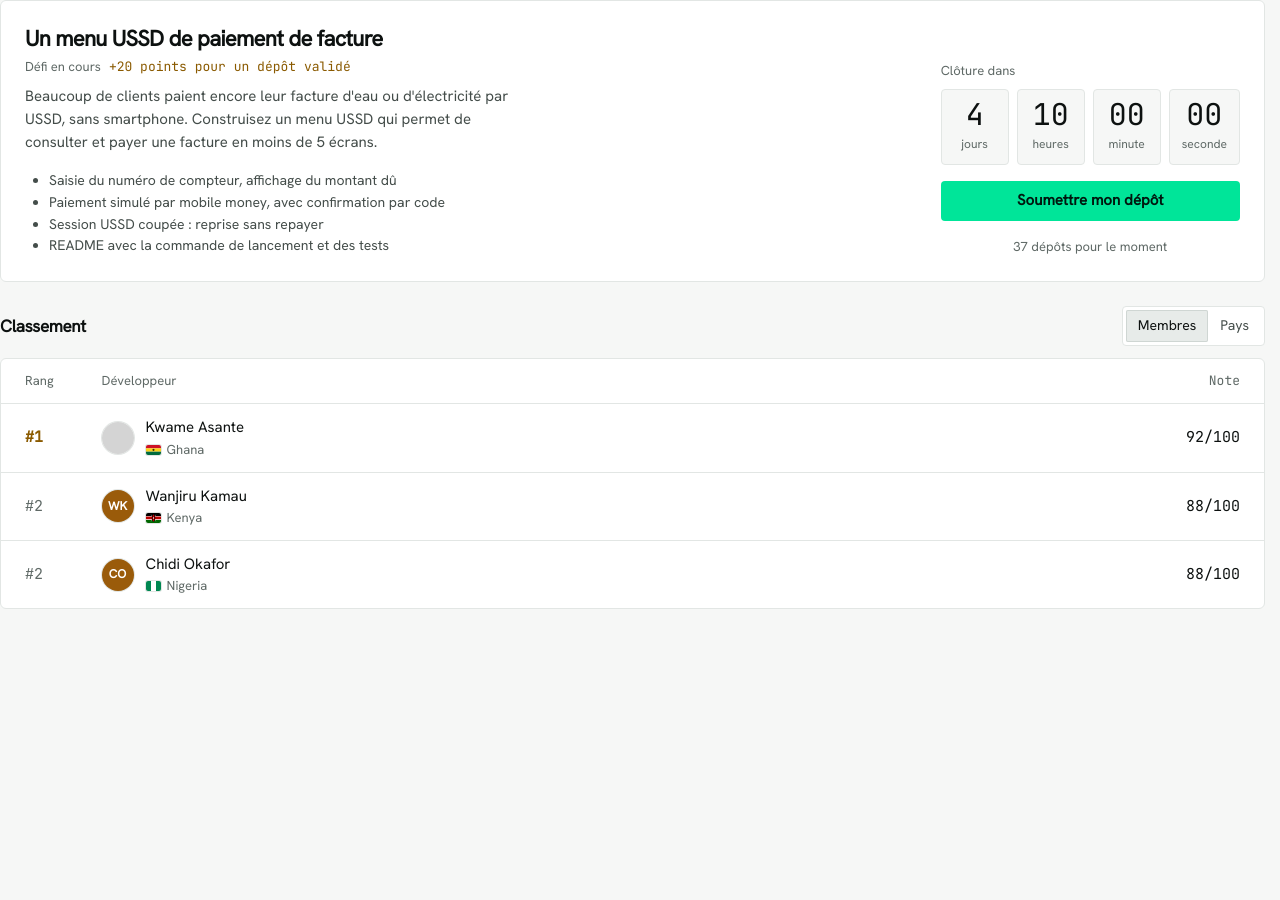
it: ChallengesPage › affiche le défi, le classement et enregistre un dépôt
Expected: the heading "Un menu USSD de paiement de facture" is shown, left=25, top=24, right=383, bottom=53
Expected: the link "Kwame Asante" is shown, left=146, top=417, right=244, bottom=437
Click the button "Soumettre mon dépôt" at (1090, 201), box left=941, top=181, right=1240, bottom=221
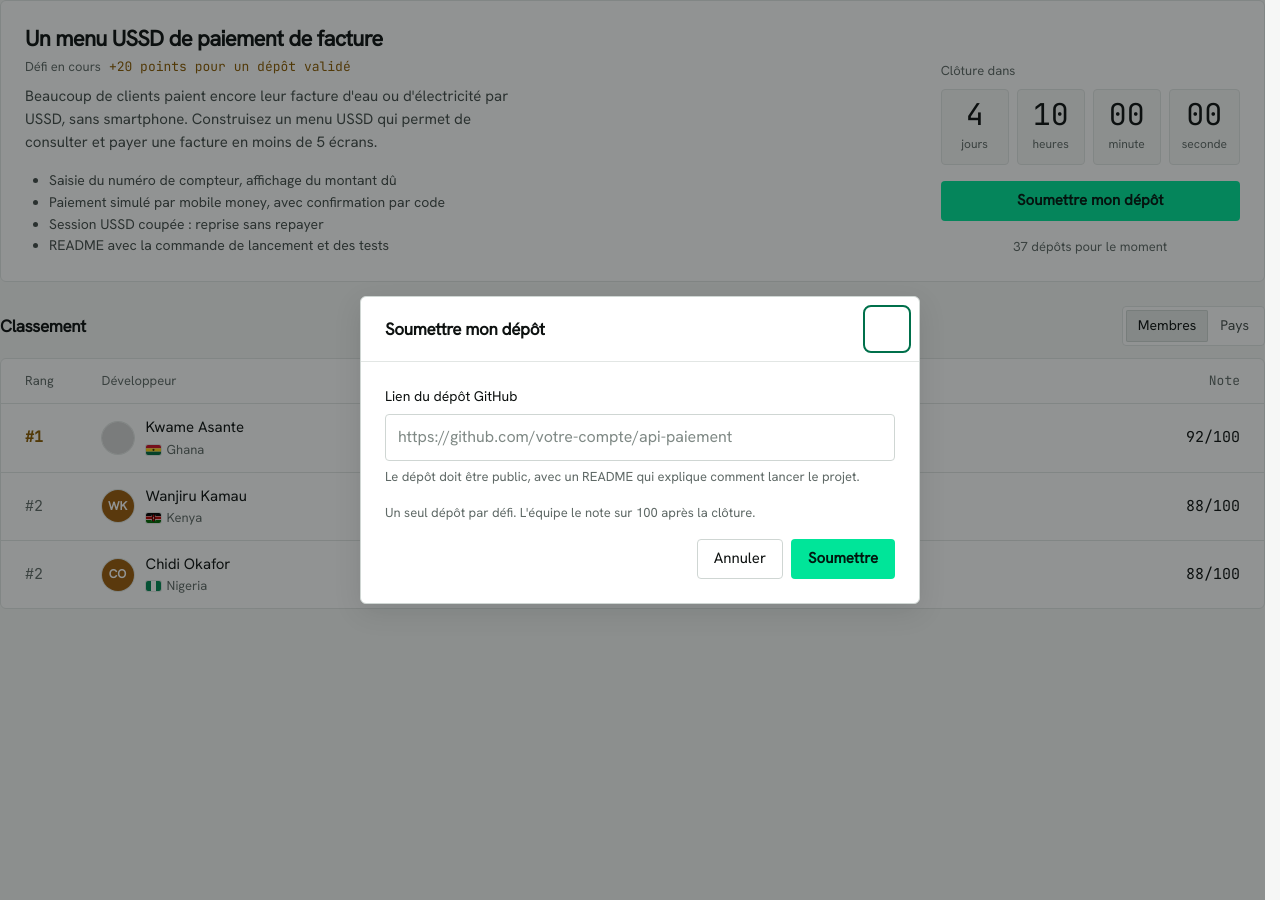
Type "https://gitlab.com/moi/api" into the field labelled "Lien du dépôt GitHub" at (640, 437), box left=385, top=414, right=895, bottom=461
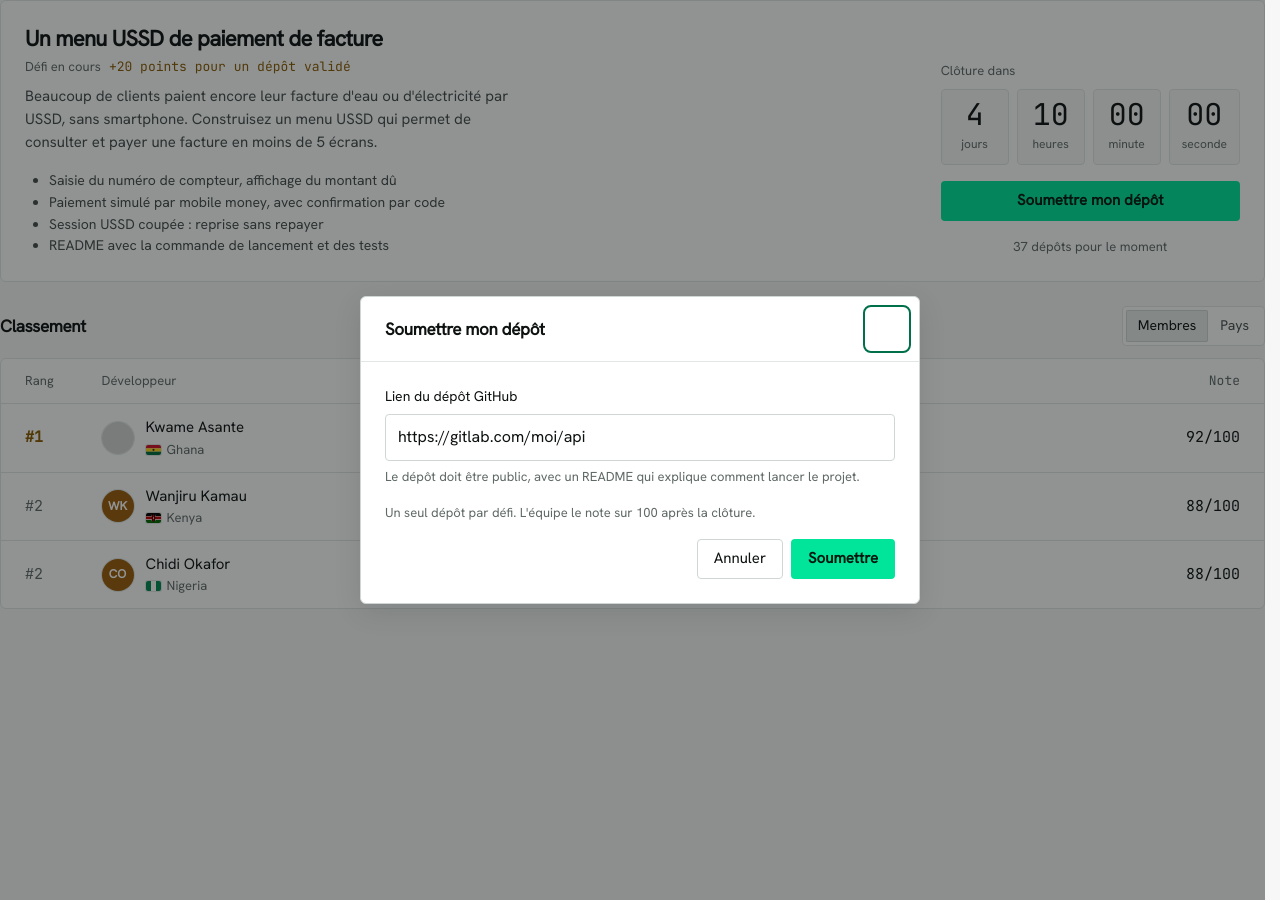
Click the button "Soumettre" at (843, 559), box left=791, top=539, right=895, bottom=579
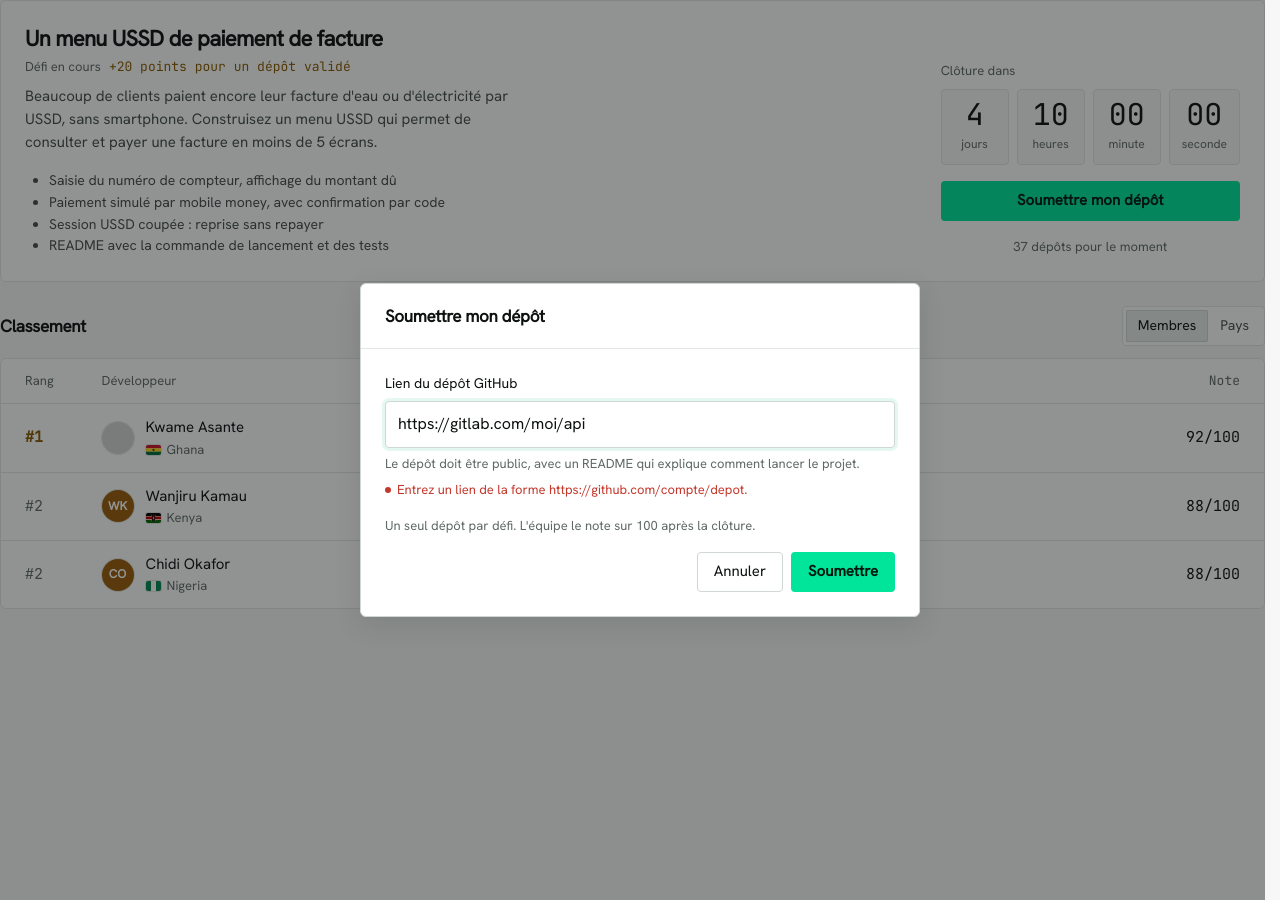
Now the text "Entrez un lien de la forme https://github.com/compte/depot." is shown, box left=397, top=481, right=748, bottom=498
Replace the text in the field labelled "Lien du dépôt GitHub" with "https://github.com/aminata-dev/api-paiement-mobile" at (640, 424), box left=385, top=401, right=895, bottom=448
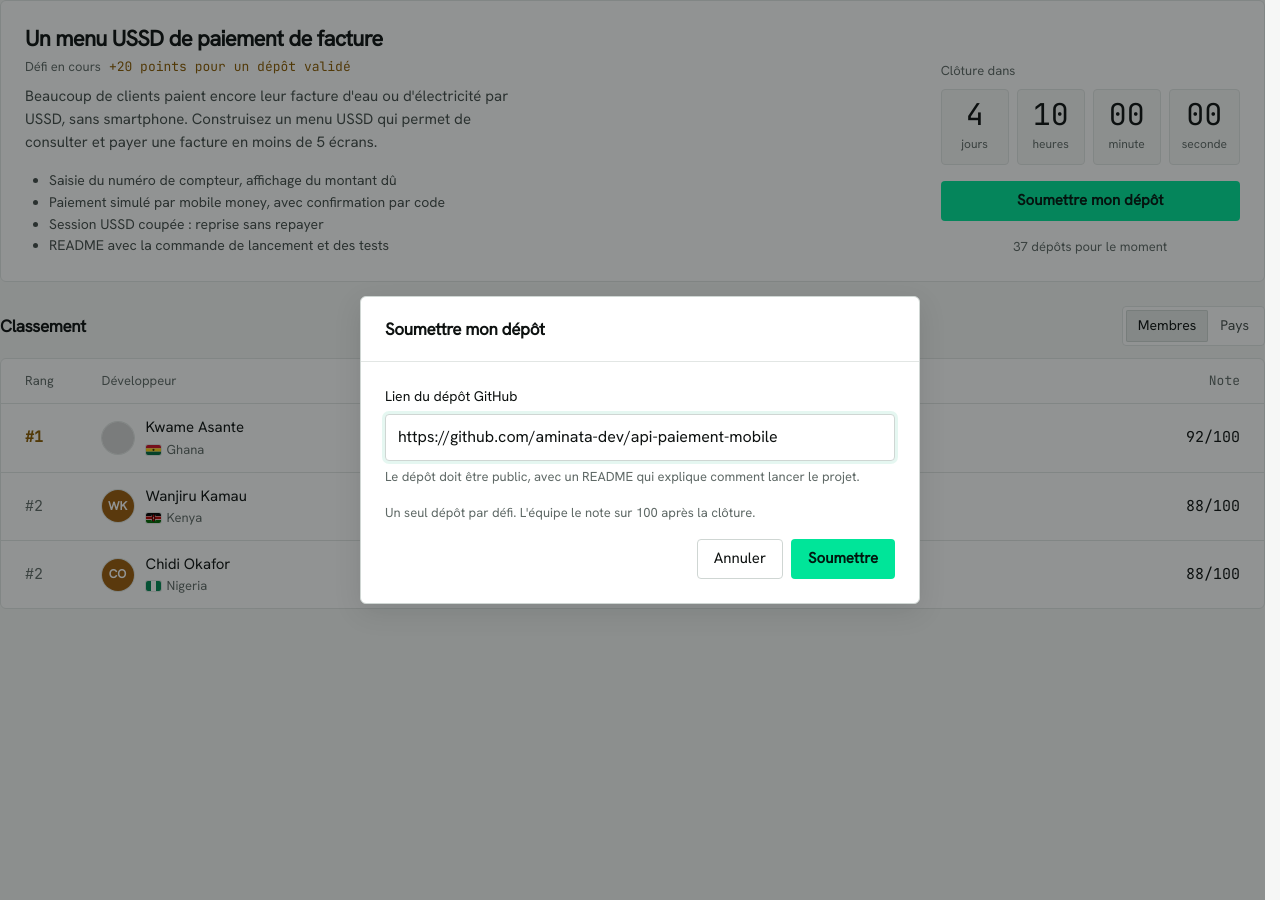
Click the button "Soumettre" at (843, 559), box left=791, top=539, right=895, bottom=579
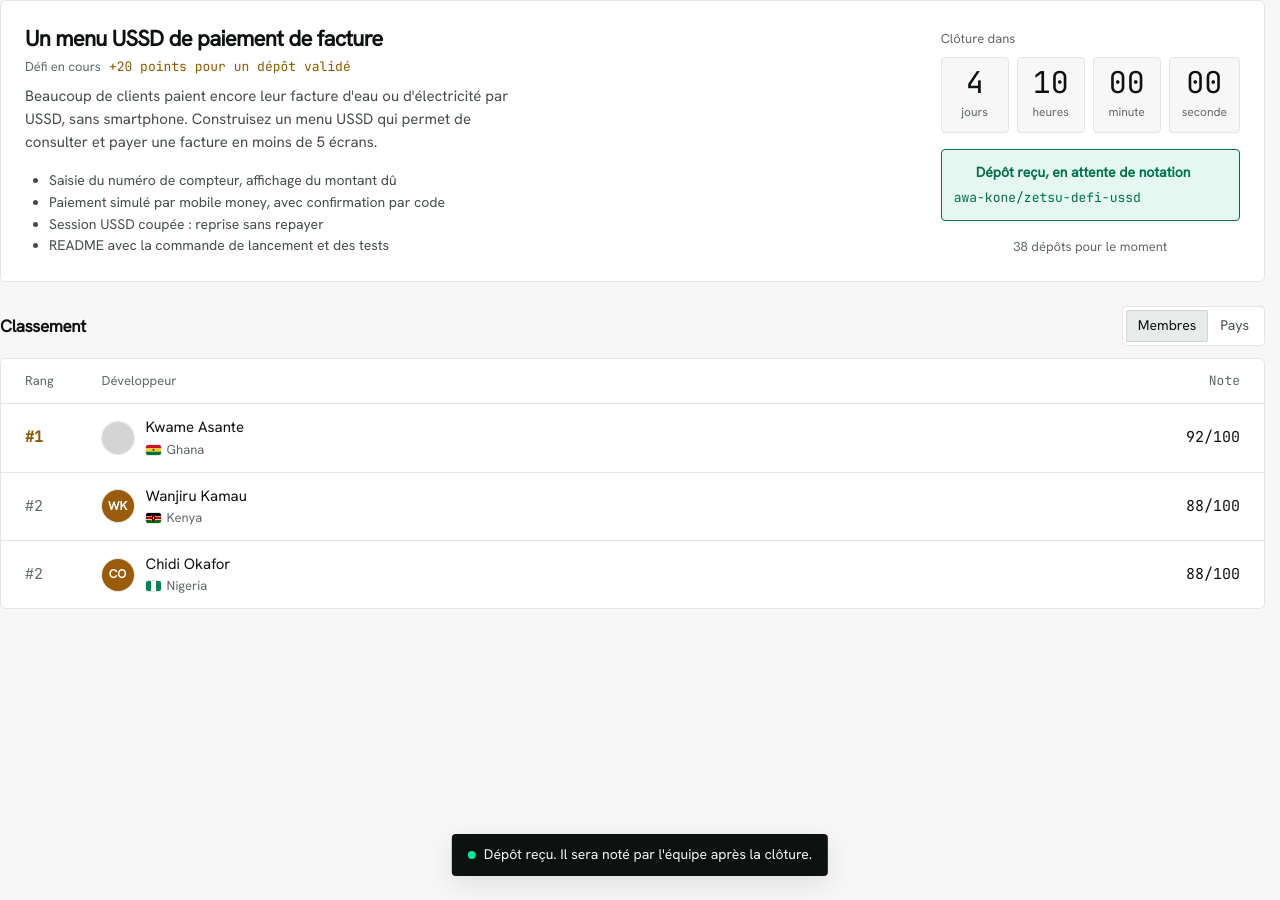
Now the text "Dépôt reçu, en attente de notation" is shown, box left=954, top=162, right=1227, bottom=184
